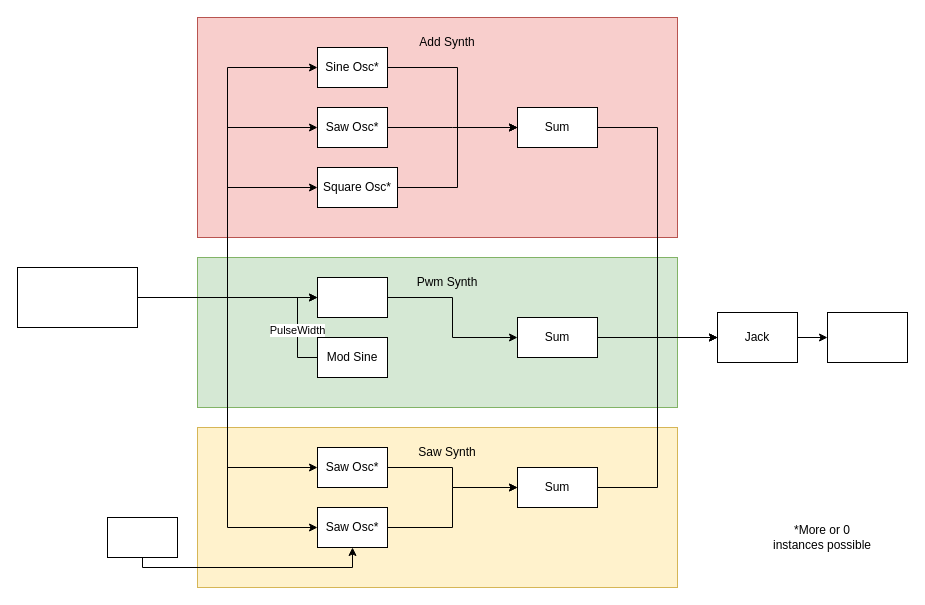
Some shapes in this 925 by 605 pixel diagram are drawn without their labels. The box of each missing label's shape, as (x1, y1, x2, y2) in pixels:
Detune: (106, 516, 178, 558)
Melody: (16, 266, 138, 328)
Output: (826, 312, 908, 362)
Square Osc: (316, 276, 388, 318)
